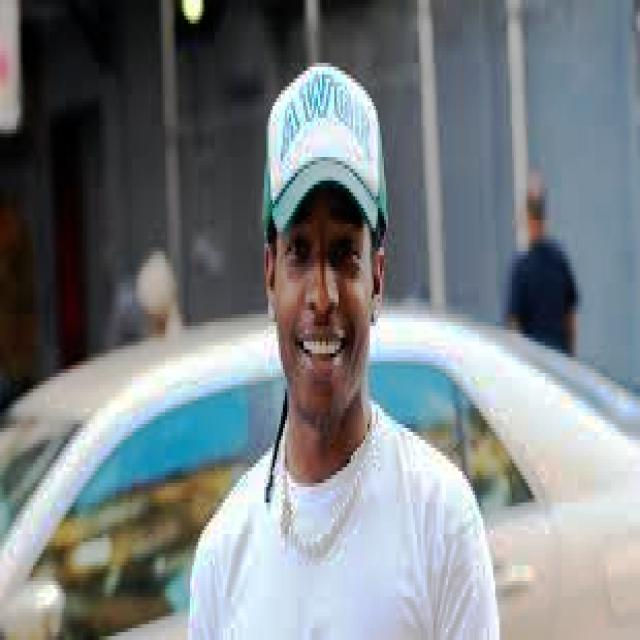TOPI: (252, 55, 394, 251)
